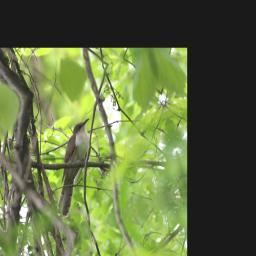Cuckoo: (37, 116, 112, 221)
